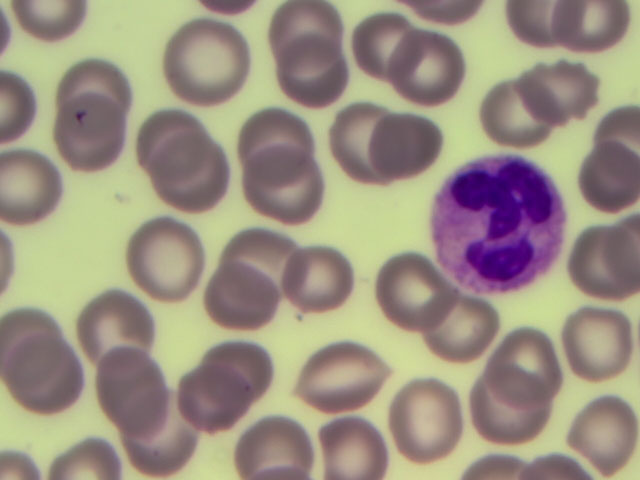RBC: (50, 96, 130, 178), (73, 283, 153, 365), (3, 329, 83, 411), (127, 217, 207, 299), (157, 143, 237, 225), (135, 91, 215, 173), (168, 22, 248, 104), (236, 89, 316, 171), (247, 155, 327, 237), (220, 207, 300, 289), (202, 260, 282, 342), (296, 246, 376, 328), (100, 349, 180, 431), (129, 394, 209, 476), (183, 357, 263, 439), (212, 322, 292, 404), (307, 342, 387, 424), (376, 256, 456, 338), (425, 289, 505, 371), (390, 381, 470, 463), (323, 398, 403, 480), (239, 398, 319, 480), (466, 370, 546, 452), (491, 321, 571, 403), (560, 306, 640, 388), (560, 389, 640, 471), (560, 225, 640, 307), (560, 134, 640, 216), (523, 53, 603, 135), (476, 66, 556, 148), (388, 37, 468, 119), (347, 8, 427, 90), (273, 31, 353, 113), (270, 1, 350, 83), (320, 101, 400, 183), (375, 107, 455, 189), (2, 151, 62, 224), (563, 1, 637, 57), (13, 1, 87, 57), (48, 424, 122, 480), (500, 1, 574, 56)
WBC: (424, 152, 570, 296)
